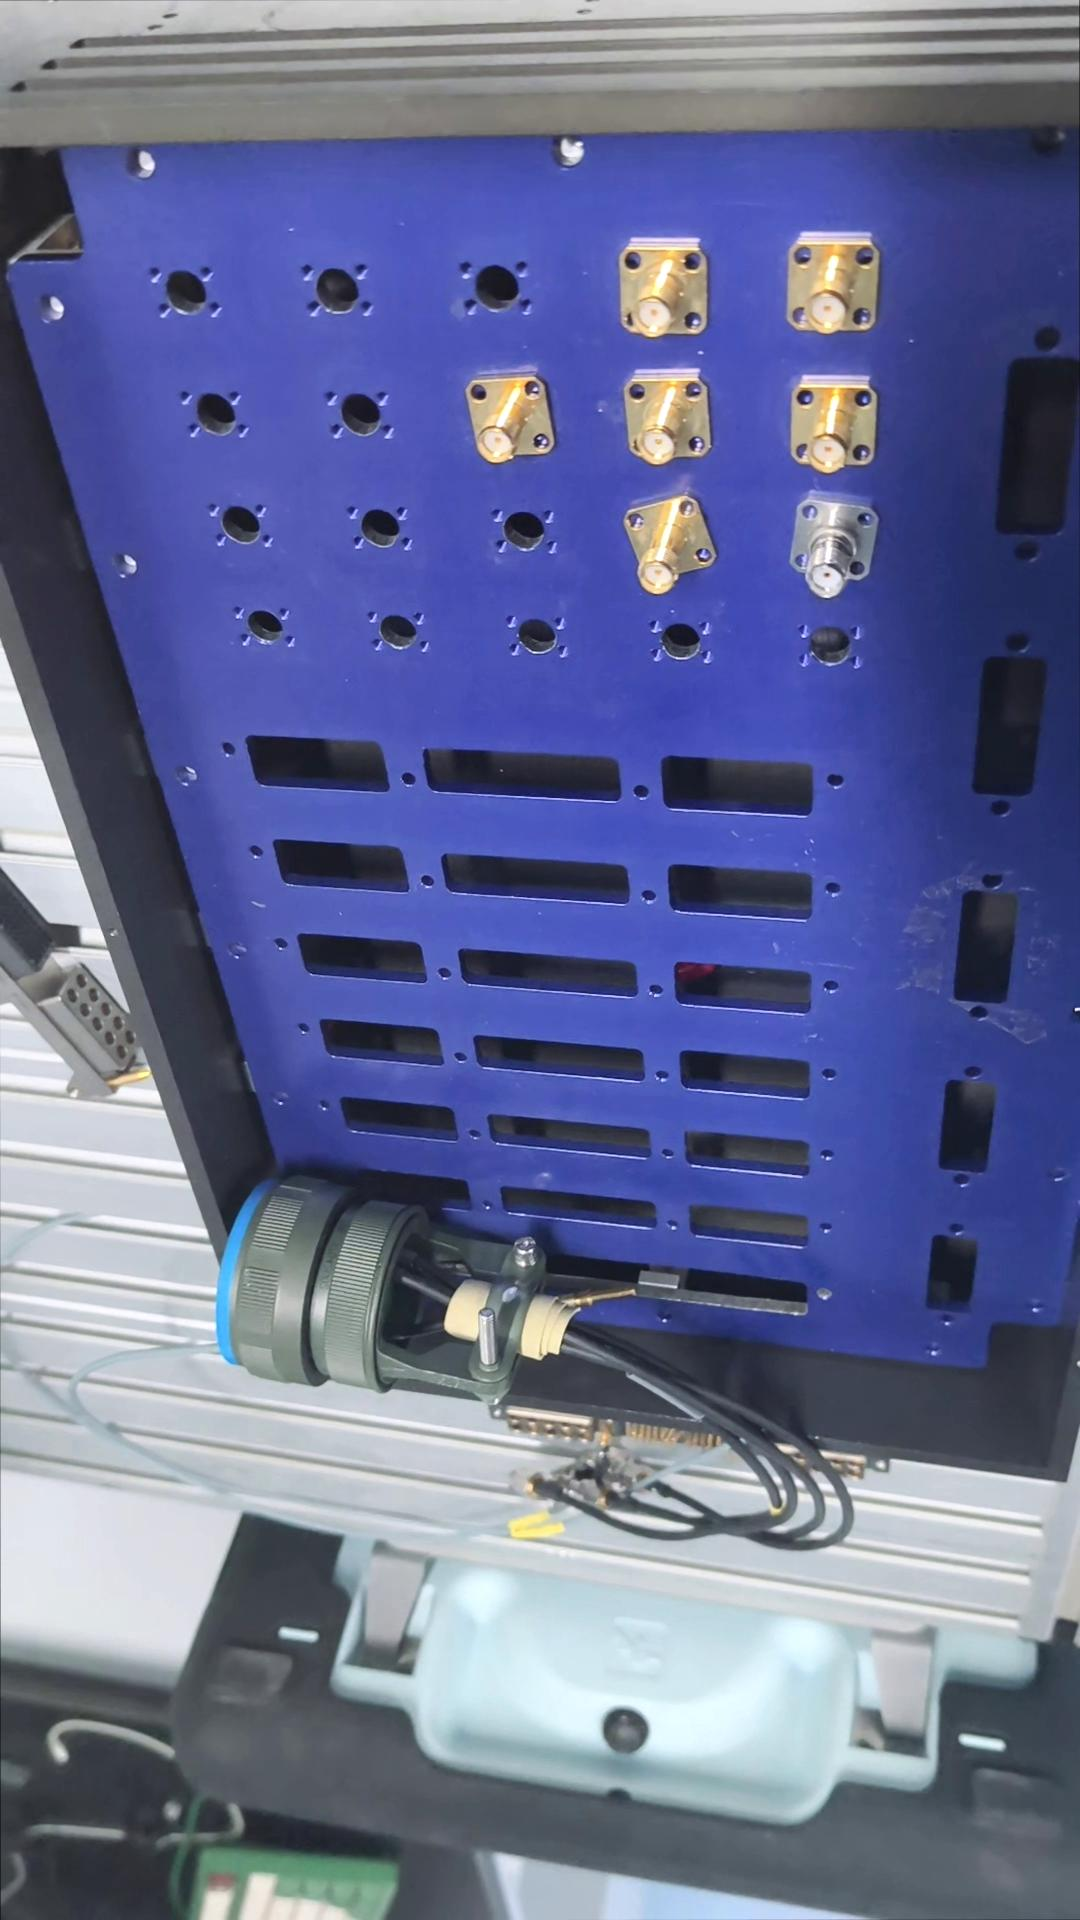SMA: (775, 227, 876, 342), (612, 235, 708, 339), (785, 493, 882, 595), (616, 489, 705, 593), (786, 375, 874, 467), (465, 367, 549, 464), (622, 371, 700, 465)
